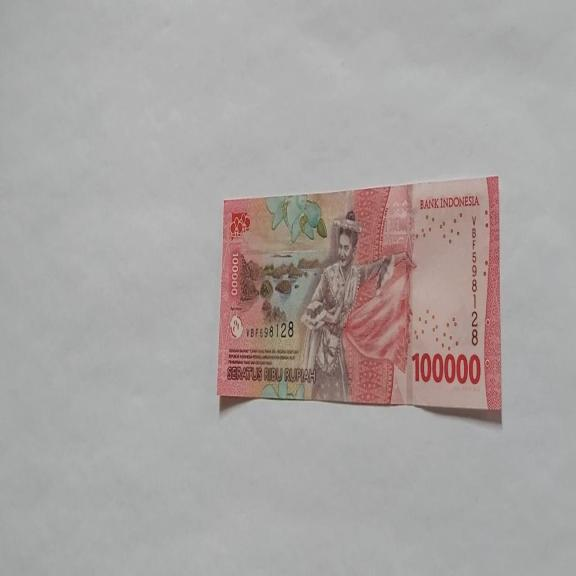Kertas: (216, 174, 502, 422), (411, 350, 481, 386)
